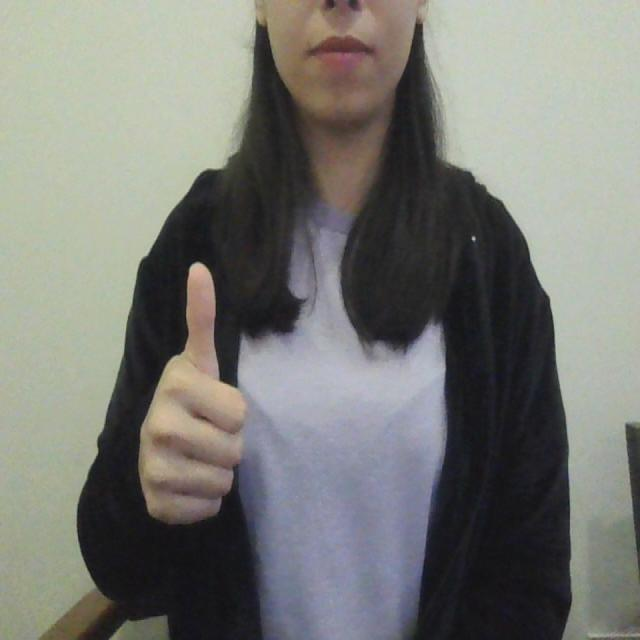Tamam: (131, 258, 270, 538)
